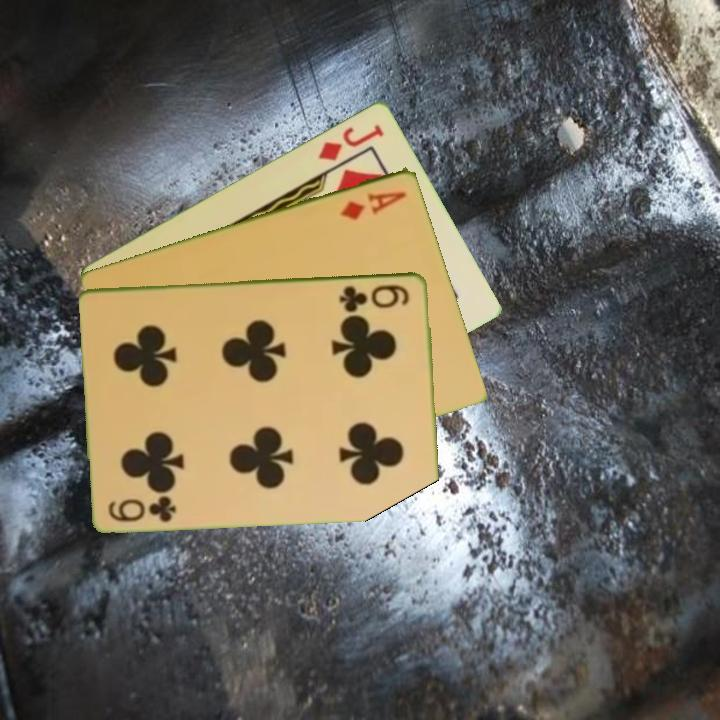6c: (336, 280, 412, 312), (105, 492, 180, 524)
Ad: (337, 187, 410, 223)
Jd: (315, 120, 387, 164)
